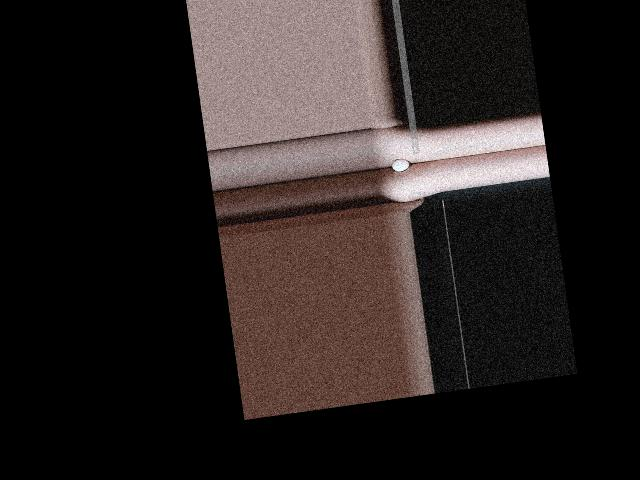egg: (391, 157, 410, 172)
